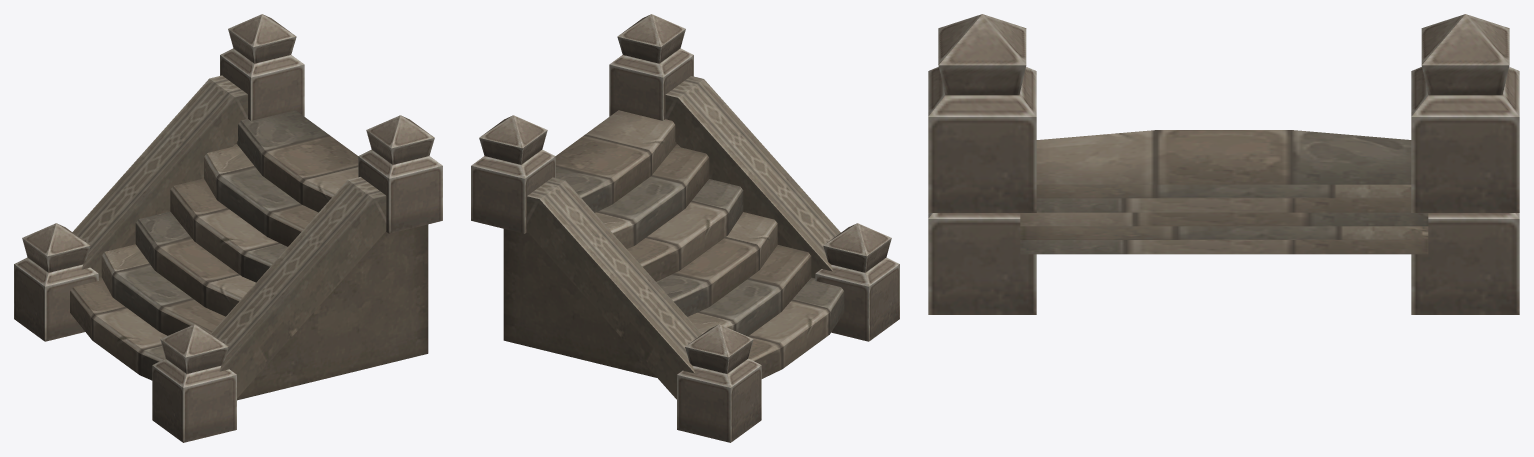
Rendered from stairs_3.FBX.
The picture shows the model from 3 angles, left to right: view 1: azimuth 30°, elevation 25°; view 2: azimuth 150°, elevation 25°; view 3: azimuth 270°, elevation 25°; orthographic projection. The views are drawn at different scales.
Visible parts, largest first — view 1: stair_3; view 2: stair_3; view 3: stair_3.
Part boxes in pixels (left/top/right/bottom): stair_3: left=14, top=14, right=442, bottom=442; stair_3: left=471, top=14, right=899, bottom=442; stair_3: left=928, top=14, right=1519, bottom=314.
Bounding box in the file's own units: 86.99 × 83.96 × 98.22.
